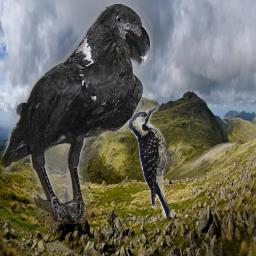Crow: (1, 3, 153, 224)
Woodpecker: (127, 105, 187, 218)
